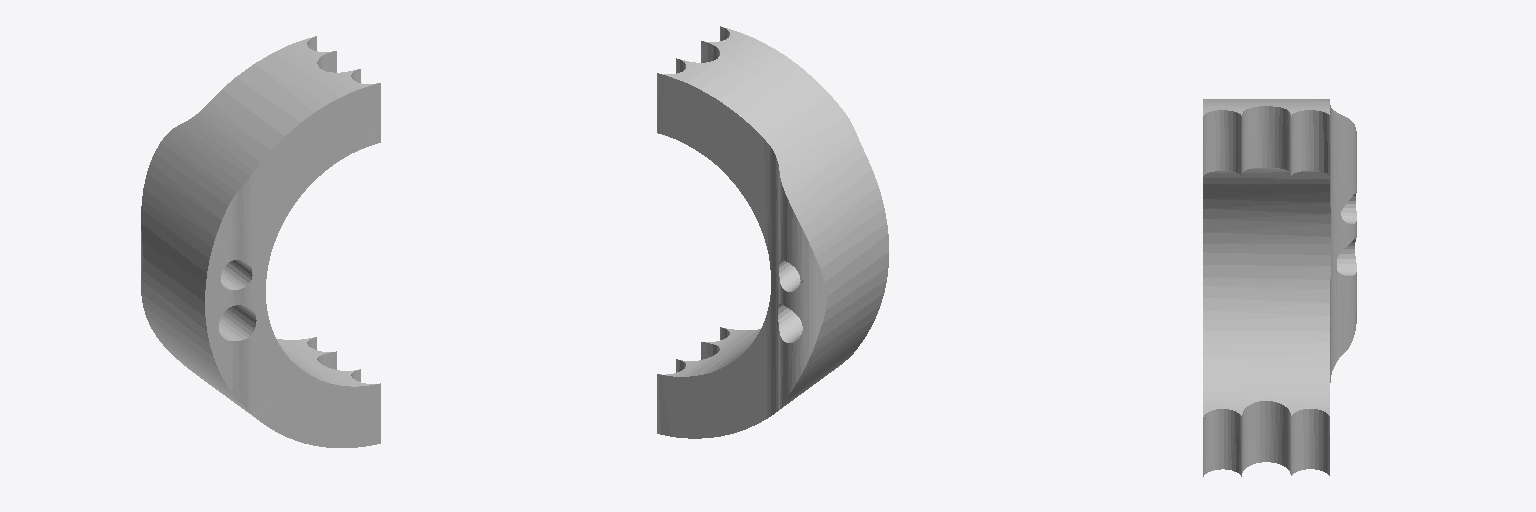
The model's file is seg1.OBJ.
The picture shows the model from 3 angles: view 1: azimuth 30°, elevation 25°; view 2: azimuth 150°, elevation 25°; view 3: azimuth 270°, elevation 25°; orthographic projection.
Parts seen in each view (by area): view 1: /ambf/env/seg1_seg1; view 2: /ambf/env/seg1_seg1; view 3: /ambf/env/seg1_seg1.
Boxes of the visible parts, x1=… form: /ambf/env/seg1_seg1: x1=141, y1=36, x2=380, y2=447; /ambf/env/seg1_seg1: x1=657, y1=26, x2=888, y2=438; /ambf/env/seg1_seg1: x1=1203, y1=99, x2=1356, y2=476.
Bounding box in the file's own units: 0.003 × 0.006 × 0.0023.